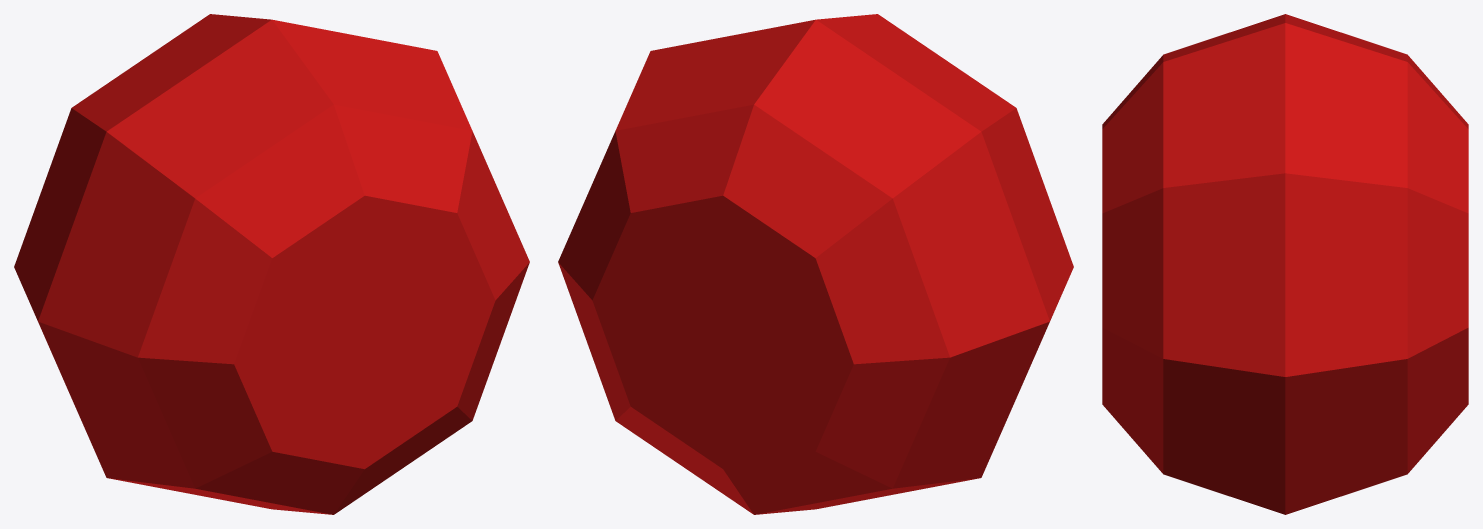
Rendered from fruit.obj.
3 views of the same model, side by side, from view 1: azimuth 30°, elevation 25°; view 2: azimuth 150°, elevation 25°; view 3: azimuth 270°, elevation 25° (orthographic).
Parts seen in each view (by area): view 1: tomato.001; view 2: tomato.001; view 3: tomato.001.
Boxes of the visible parts, x1,y1,x2,y2 form: tomato.001: (14, 14, 529, 514); tomato.001: (558, 14, 1073, 514); tomato.001: (1102, 14, 1468, 514).
Size of the model in its own units: 0.1697 by 0.1697 by 0.1166.
